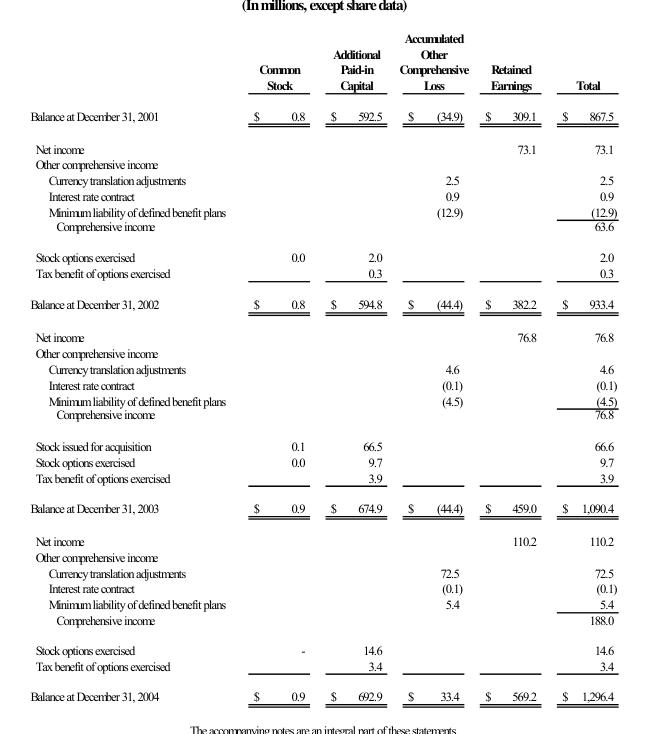table: (29, 28, 616, 702)
table column: (29, 28, 238, 702), (390, 28, 476, 702), (238, 28, 317, 702), (317, 28, 390, 702), (476, 28, 548, 702), (548, 28, 616, 702)
table column header: (29, 28, 616, 100)
table projected row header: (29, 156, 616, 172), (29, 344, 616, 360), (29, 548, 616, 564)
table row: (29, 28, 616, 100), (29, 288, 616, 320), (29, 492, 616, 524), (29, 100, 616, 131), (29, 131, 616, 156), (29, 264, 616, 288), (29, 320, 616, 344), (29, 524, 616, 548), (29, 218, 616, 241), (29, 241, 616, 264), (29, 407, 616, 430), (29, 430, 616, 453), (29, 469, 616, 492), (29, 611, 616, 634), (29, 634, 616, 657), (29, 657, 616, 680), (29, 680, 616, 702), (29, 156, 616, 172), (29, 187, 616, 203), (29, 344, 616, 360), (29, 360, 616, 376), (29, 376, 616, 392), (29, 453, 616, 469), (29, 548, 616, 564), (29, 564, 616, 580), (29, 580, 616, 596), (29, 172, 616, 187), (29, 203, 616, 218), (29, 392, 616, 407), (29, 596, 616, 611)
